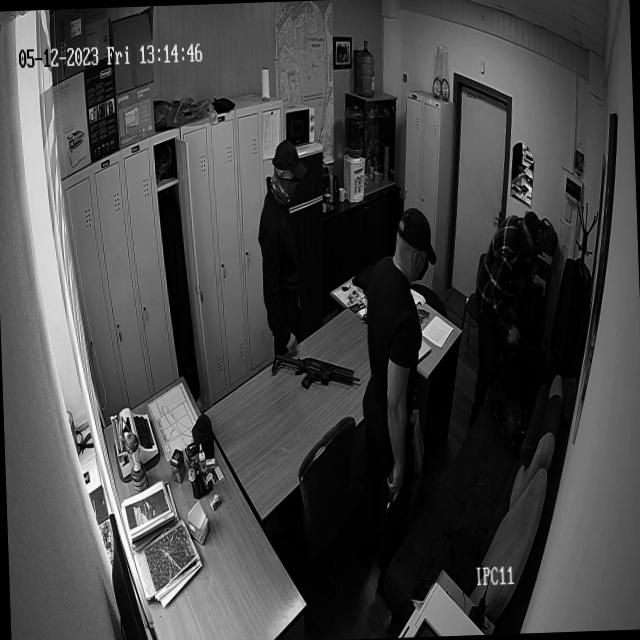gun: (272, 349, 362, 392), (382, 466, 403, 516)
person: (476, 210, 542, 380), (254, 144, 306, 354)
person with a gun: (360, 210, 434, 538)
